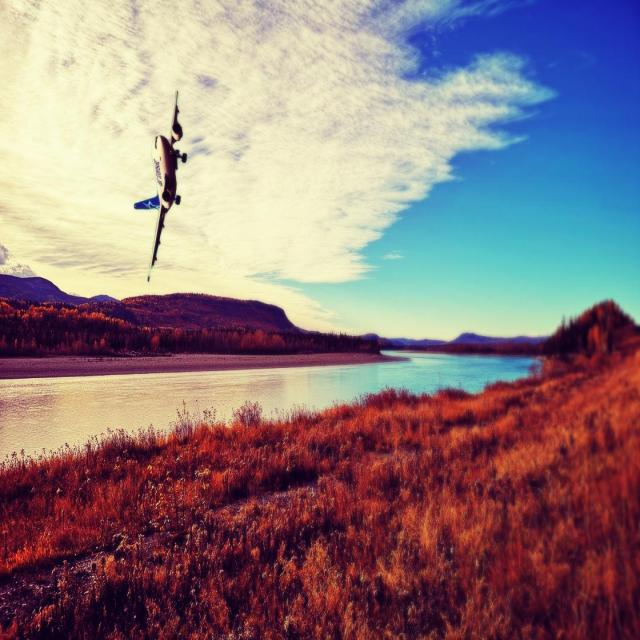airplane: (133, 90, 187, 282)
